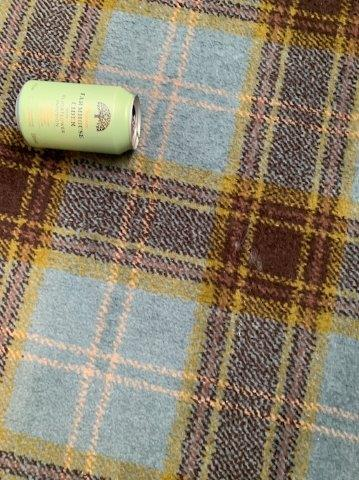kaleng: (17, 80, 141, 153)
